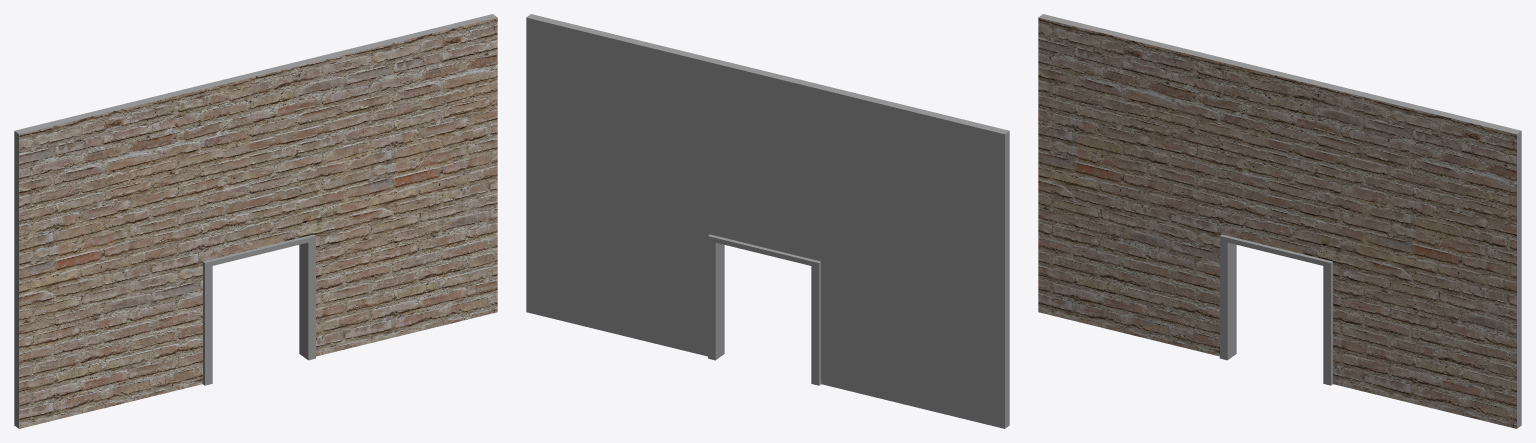
Rendered from wall_door.obj.
3 views of the same model, side by side, from view 1: azimuth 30°, elevation 25°; view 2: azimuth 150°, elevation 25°; view 3: azimuth 330°, elevation 25° (orthographic).
Parts seen in each view (by area): view 1: Cube; view 2: Cube; view 3: Cube.
Part boxes in pixels (x1,y1,x2,y2): Cube: (14, 14, 497, 428); Cube: (526, 14, 1009, 428); Cube: (1038, 14, 1521, 428).
Size of the model in its own units: 21.85 by 12.85 by 0.7218.
